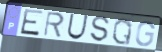E: (19, 8, 45, 38)
G: (134, 20, 156, 48)
Q: (111, 17, 134, 47)
R: (42, 11, 65, 39)
S: (89, 15, 111, 44)
U: (66, 12, 90, 41)
